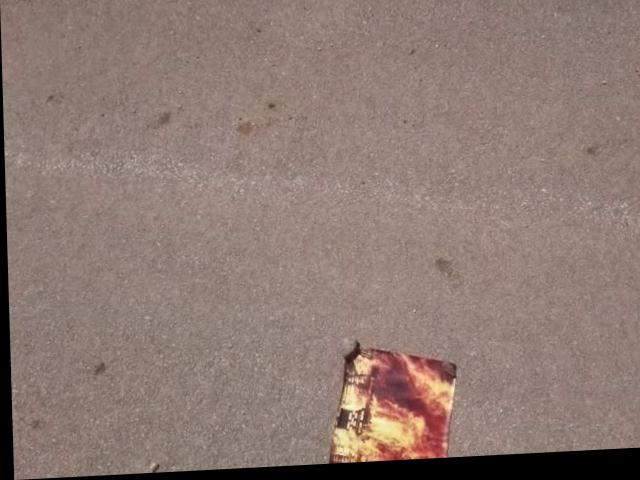fire-poster: (321, 339, 459, 466)
